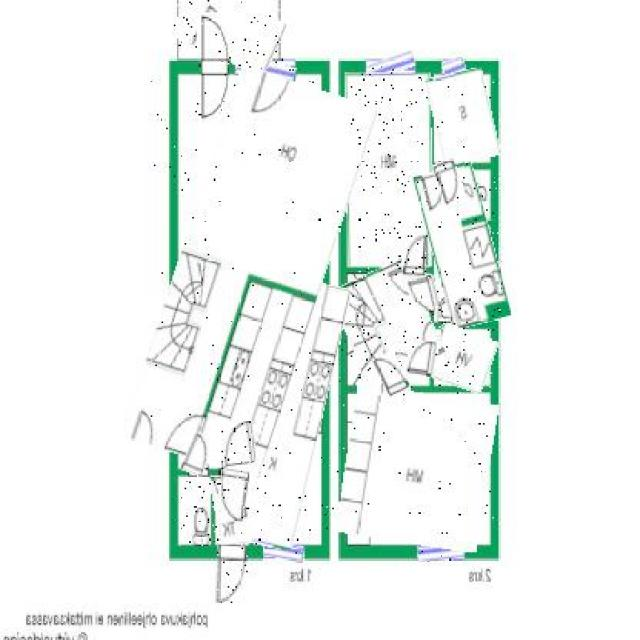door: (197, 12, 231, 123), (217, 545, 248, 603), (217, 469, 248, 522), (220, 422, 255, 464), (377, 352, 408, 398), (437, 160, 465, 209), (185, 434, 212, 477), (403, 232, 426, 280), (408, 275, 437, 311), (409, 340, 437, 377)
window: (237, 58, 297, 78), (368, 55, 415, 77), (418, 543, 464, 562), (263, 545, 305, 563), (443, 57, 465, 74)
zone: (151, 71, 349, 472), (238, 278, 336, 550), (341, 389, 494, 548), (346, 72, 431, 266), (337, 264, 440, 390), (423, 165, 502, 328), (174, 0, 283, 66), (430, 71, 496, 163), (429, 326, 494, 391), (212, 472, 251, 546), (178, 479, 211, 546)
